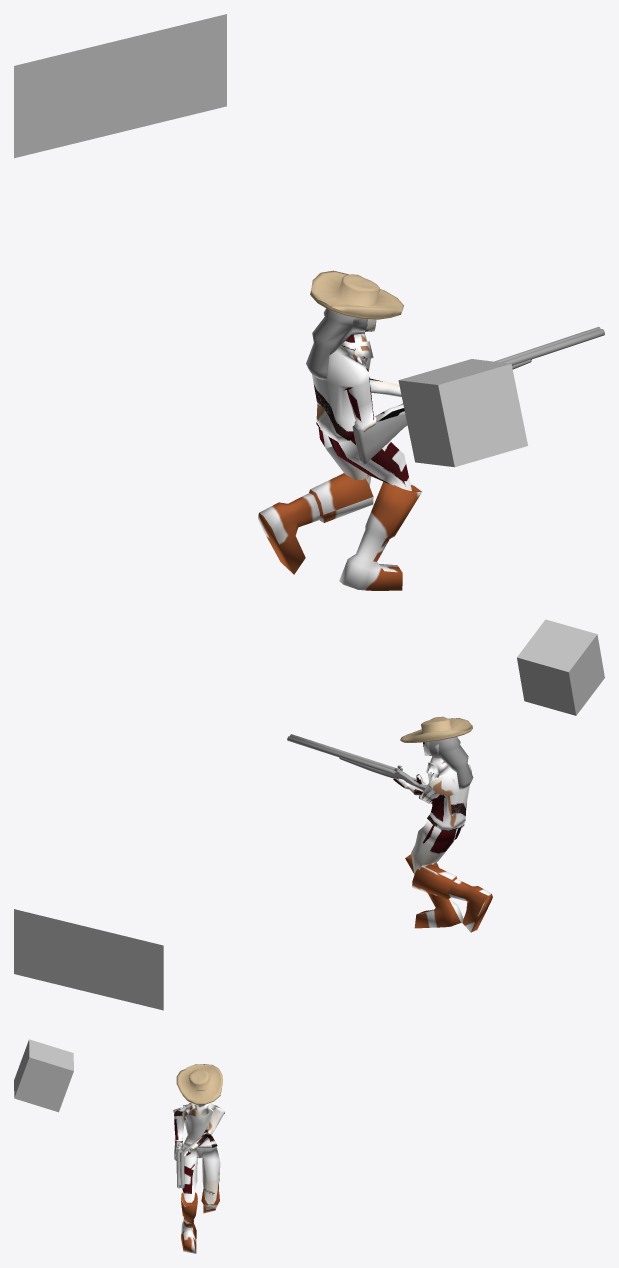
Rendered from Mariana_the_brigandBETA5.obj.
The picture shows the model from 3 angles, top to bottom: view 1: azimuth 30°, elevation 25°; view 2: azimuth 150°, elevation 25°; view 3: azimuth 270°, elevation 25°; orthographic projection. The views are drawn at different scales.
Parts seen in each view (by area): view 1: Floor_Plane, Default_Body_Cube, Cube_Cube.001, Hat_Cylinder, SHOTGUN_Cube.007, Hair_Cube.004; view 2: Floor_Plane, Default_Body_Cube, Cube_Cube.001, SHOTGUN_Cube.007, Hat_Cylinder, Hair_Cube.004; view 3: Default_Body_Cube, Cube_Cube.001, Hat_Cylinder, SHOTGUN_Cube.007.
Boxes of the visible parts, box(x1,y1,x2,y2) form: Floor_Plane: box(14, 14, 226, 158); Default_Body_Cube: box(258, 319, 421, 590); Cube_Cube.001: box(398, 359, 527, 467); Hat_Cylinder: box(310, 270, 403, 319); SHOTGUN_Cube.007: box(352, 327, 604, 464); Hair_Cube.004: box(306, 305, 371, 380); Floor_Plane: box(14, 909, 163, 1010); Default_Body_Cube: box(393, 742, 492, 932); Cube_Cube.001: box(517, 619, 604, 715); SHOTGUN_Cube.007: box(287, 734, 466, 827); Hat_Cylinder: box(400, 716, 472, 742); Hair_Cube.004: box(429, 737, 473, 789); Default_Body_Cube: box(173, 1102, 224, 1253); Cube_Cube.001: box(14, 1039, 73, 1112); Hat_Cylinder: box(176, 1064, 222, 1104); SHOTGUN_Cube.007: box(174, 1141, 184, 1188).
Size of what is drawn, in the model's own units: 8.72 by 8.76 by 25.11.
